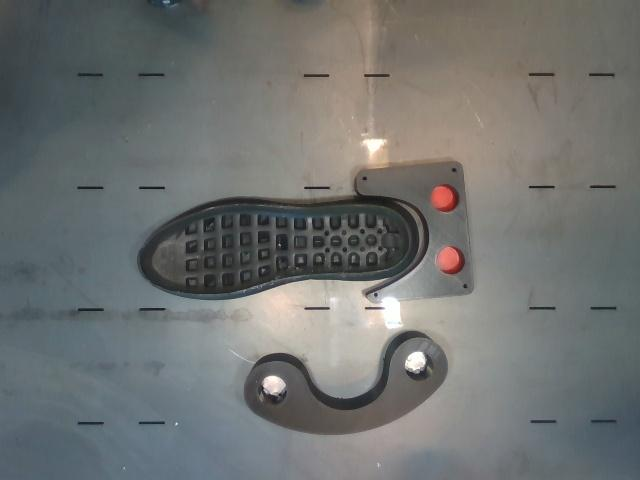shoes: (140, 204, 411, 294)
